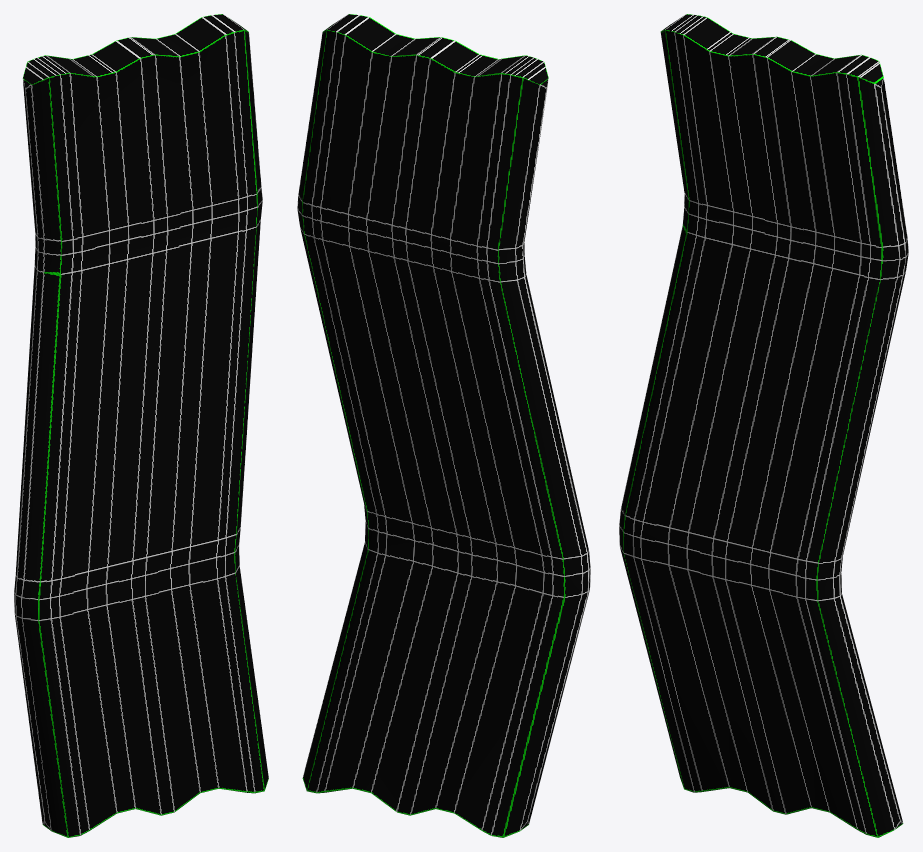
File: asset_ingredient_pasta_state4.FBX
3 renders of one model, left to right at view 1: azimuth 30°, elevation 25°; view 2: azimuth 150°, elevation 25°; view 3: azimuth 330°, elevation 25°, orthographic.
Parts seen in each view (by area): view 1: Box014; view 2: Box014; view 3: Box014.
Boxes of the visible parts, <box> form: Box014: <box>14,14,268,837</box>; Box014: <box>297,14,590,837</box>; Box014: <box>619,14,908,837</box>.
Size of the model in its own units: 7.5 by 20.54 by 2.25.
